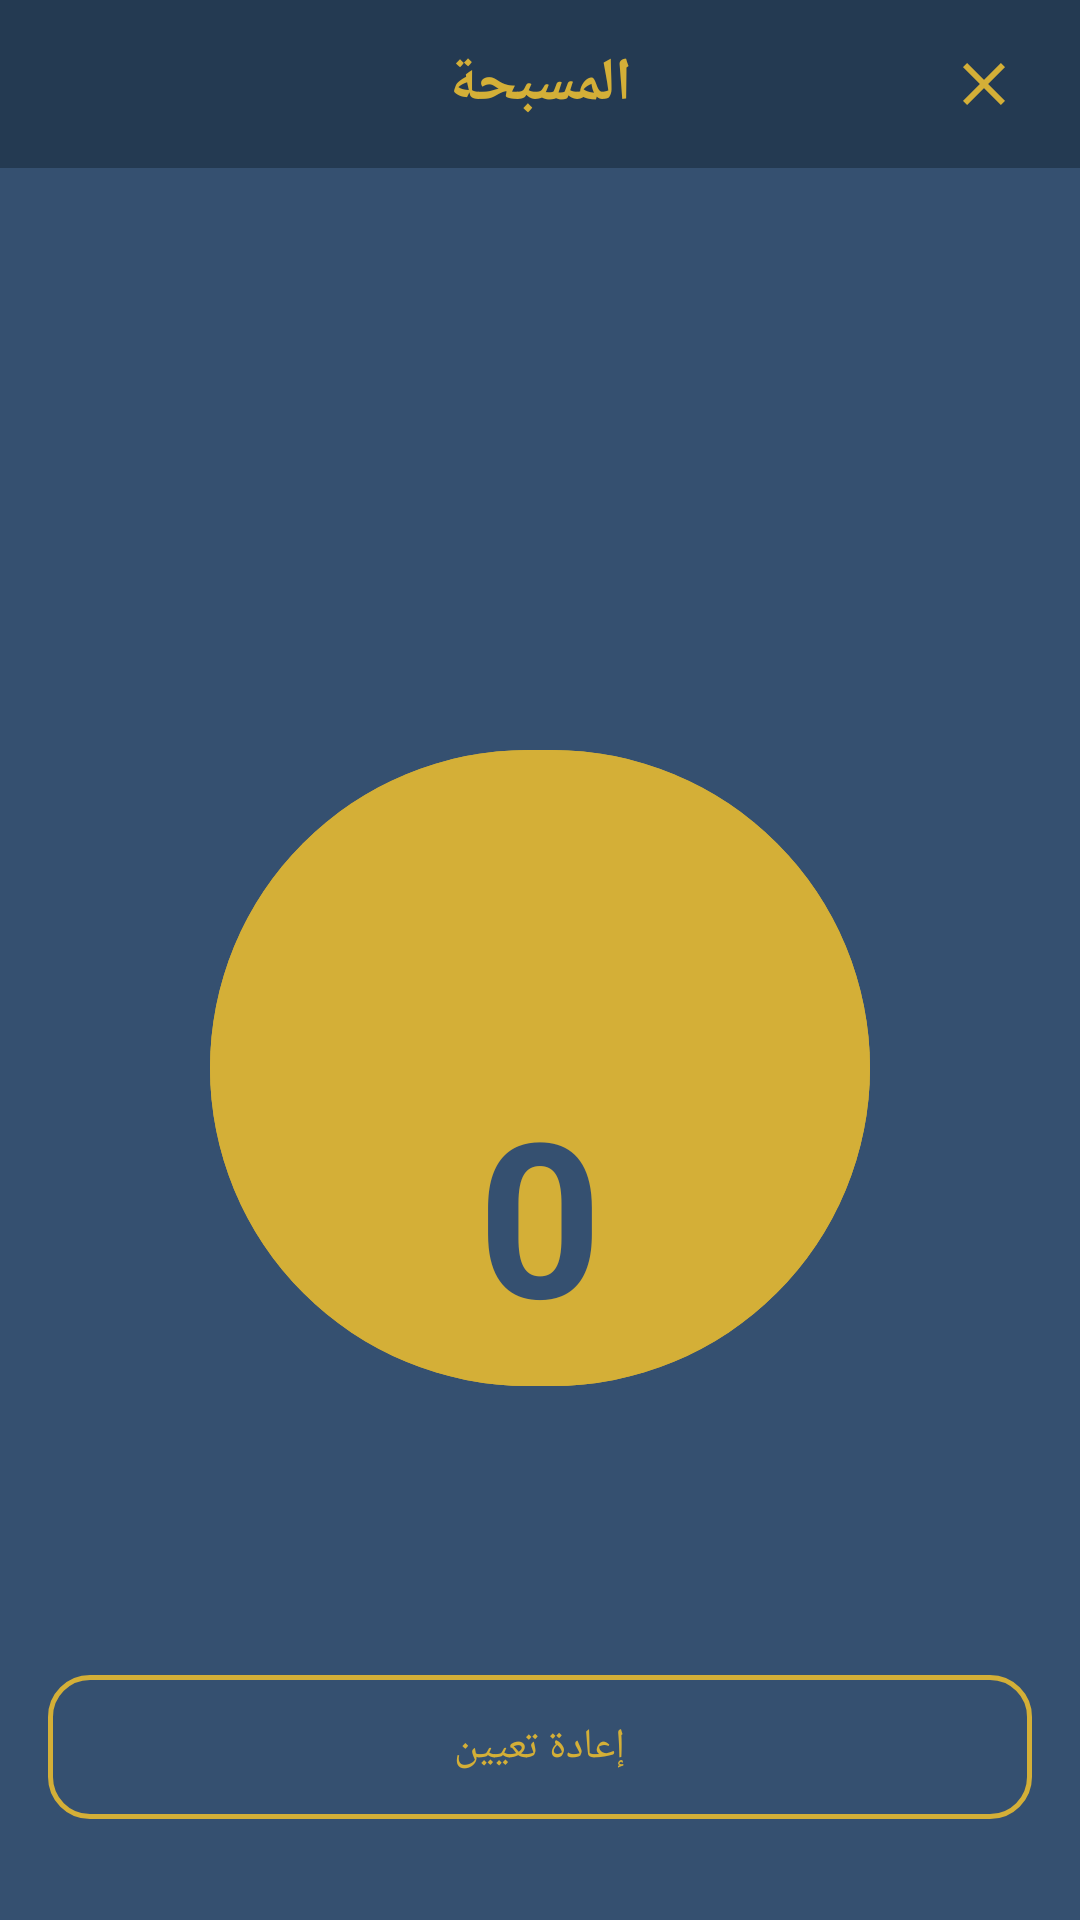

Named icons in this screenshot (1080w x 1920h) and their centers, [x,y]:
close: [984,84]
